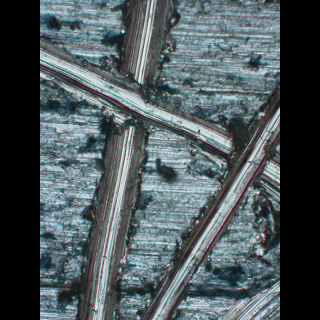d: (40, 30, 280, 209), (139, 82, 278, 320), (74, 2, 176, 320)
